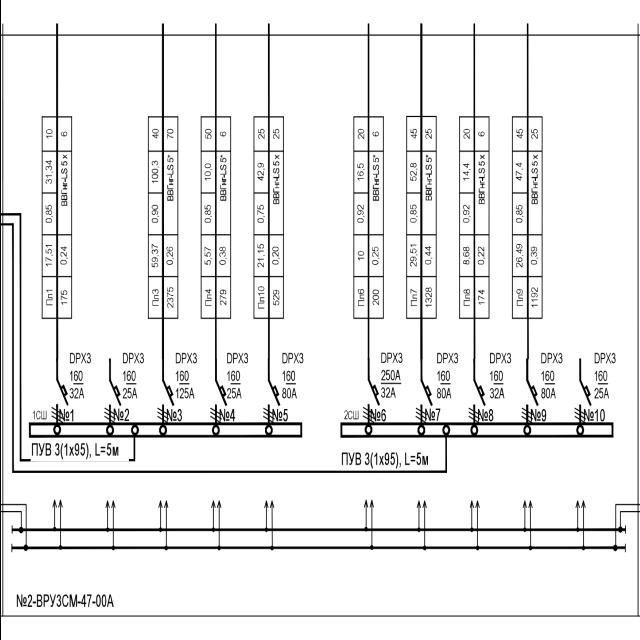-: (12, 591, 114, 613), (66, 351, 94, 398), (593, 349, 617, 402), (224, 350, 249, 400), (120, 348, 144, 400), (436, 350, 460, 402), (174, 350, 198, 400), (540, 350, 564, 400), (487, 351, 512, 398), (379, 351, 404, 398), (282, 351, 304, 399)
QF: (104, 378, 120, 411), (576, 377, 592, 410), (468, 378, 484, 411), (522, 378, 538, 410), (418, 378, 434, 410), (363, 378, 379, 410), (264, 377, 280, 409), (210, 378, 226, 410), (158, 379, 174, 411), (53, 378, 69, 410)
